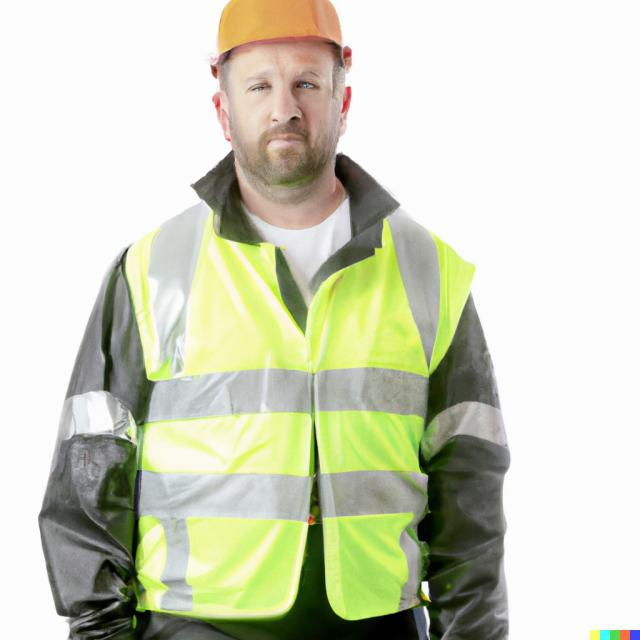Reflective-Jacket: (108, 192, 480, 634)
Safety-Helmet: (206, 0, 352, 65)
